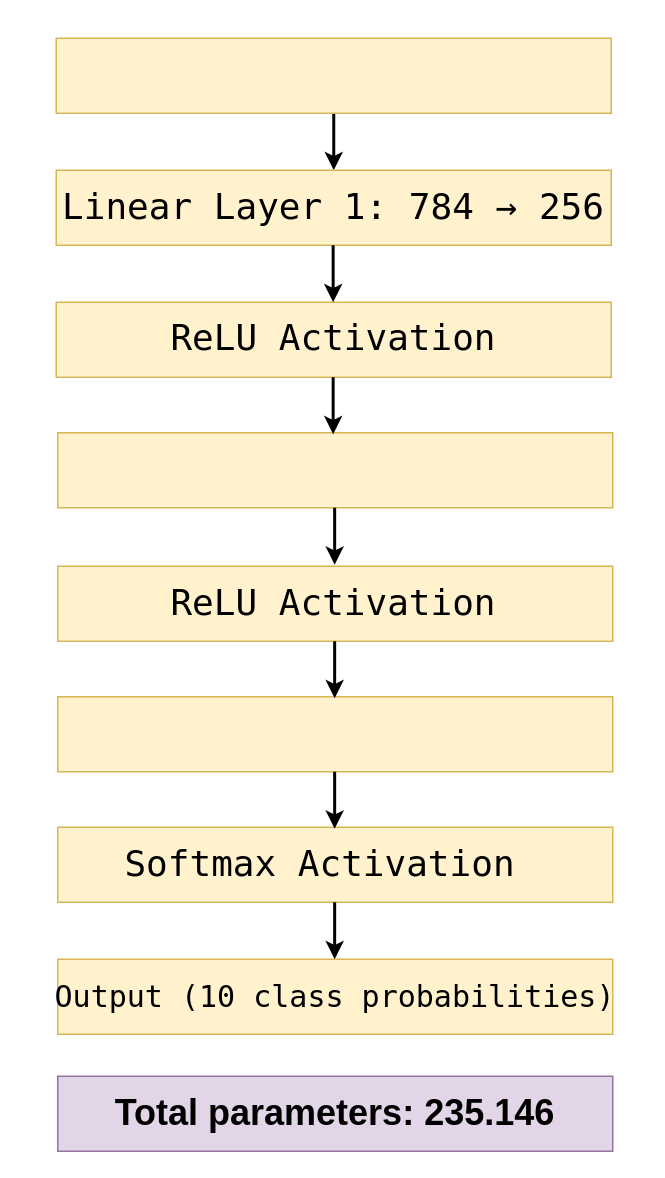
This 665x1178 diagram has some shape labels left out. Here are the shapes that lost their labels. From the top down, the centre of each, then its label:
At point 333,75: "Input (784 pixels)".
At point 334,469: "Linear Layer 2: 256 → 128".
At point 334,733: "Linear Layer 3: 128 → 10".
